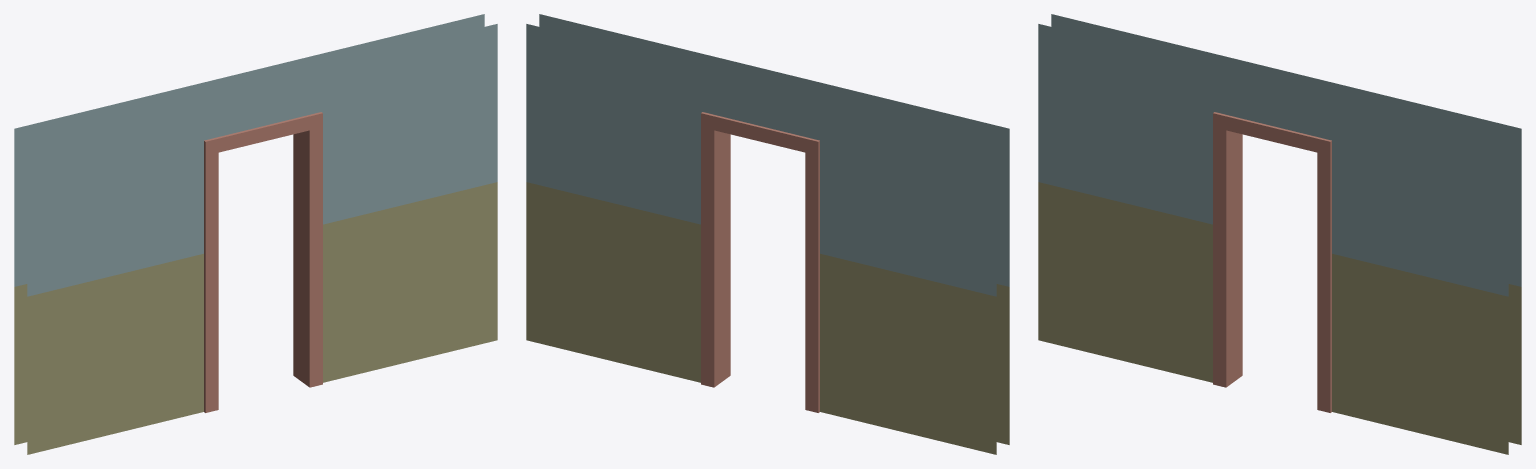
File: DoorWay.fbx
3 views of the same model, side by side, from view 1: azimuth 30°, elevation 25°; view 2: azimuth 150°, elevation 25°; view 3: azimuth 330°, elevation 25° (orthographic).
Visible parts, largest first — view 1: Doorway; view 2: Doorway; view 3: Doorway.
Part boxes in pixels (<box>): Doorway: <box>14,14,497,454</box>; Doorway: <box>526,14,1009,454</box>; Doorway: <box>1038,14,1521,454</box>.
Size of the model in its own units: 5.16 by 3.32 by 0.3155.
